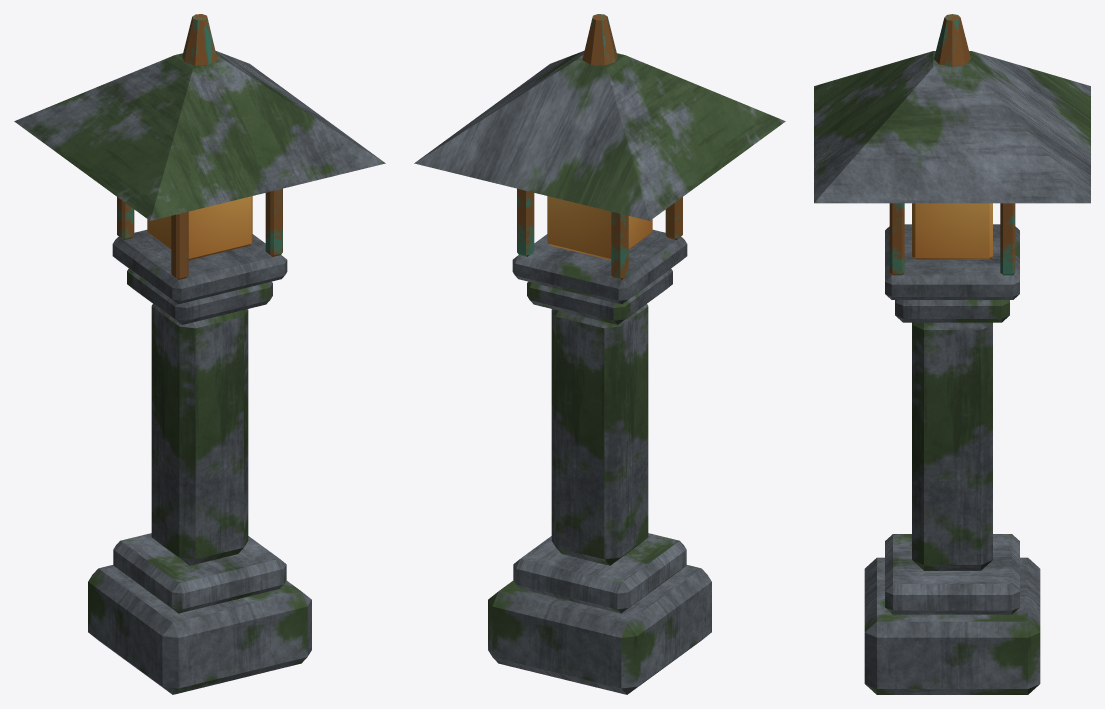
File: Bell_Lantern_Post.glb
3 views of the same model, side by side, from view 1: azimuth 30°, elevation 25°; view 2: azimuth 150°, elevation 25°; view 3: azimuth 270°, elevation 25° (orthographic).
Visible parts, largest first — view 1: Bell_Lantern_Post__Stone, Bell_Lantern_Post__Bronze, Bell_Lantern_Post__Glow; view 2: Bell_Lantern_Post__Stone, Bell_Lantern_Post__Bronze, Bell_Lantern_Post__Glow; view 3: Bell_Lantern_Post__Stone, Bell_Lantern_Post__Glow, Bell_Lantern_Post__Bronze.
Part boxes in pixels (x1=…): Bell_Lantern_Post__Stone: x1=14, y1=50, x2=385, y2=694; Bell_Lantern_Post__Bronze: x1=117, y1=14, x2=282, y2=279; Bell_Lantern_Post__Glow: x1=147, y1=196, x2=252, y2=260; Bell_Lantern_Post__Stone: x1=414, y1=50, x2=785, y2=694; Bell_Lantern_Post__Bronze: x1=517, y1=14, x2=682, y2=279; Bell_Lantern_Post__Glow: x1=547, y1=196, x2=652, y2=260; Bell_Lantern_Post__Stone: x1=814, y1=51, x2=1090, y2=694; Bell_Lantern_Post__Glow: x1=912, y1=203, x2=992, y2=259; Bell_Lantern_Post__Bronze: x1=889, y1=14, x2=1015, y2=275.
Size of the model in its own units: 4.1 by 10.55 by 4.1.
3 materials, 3 textured.
